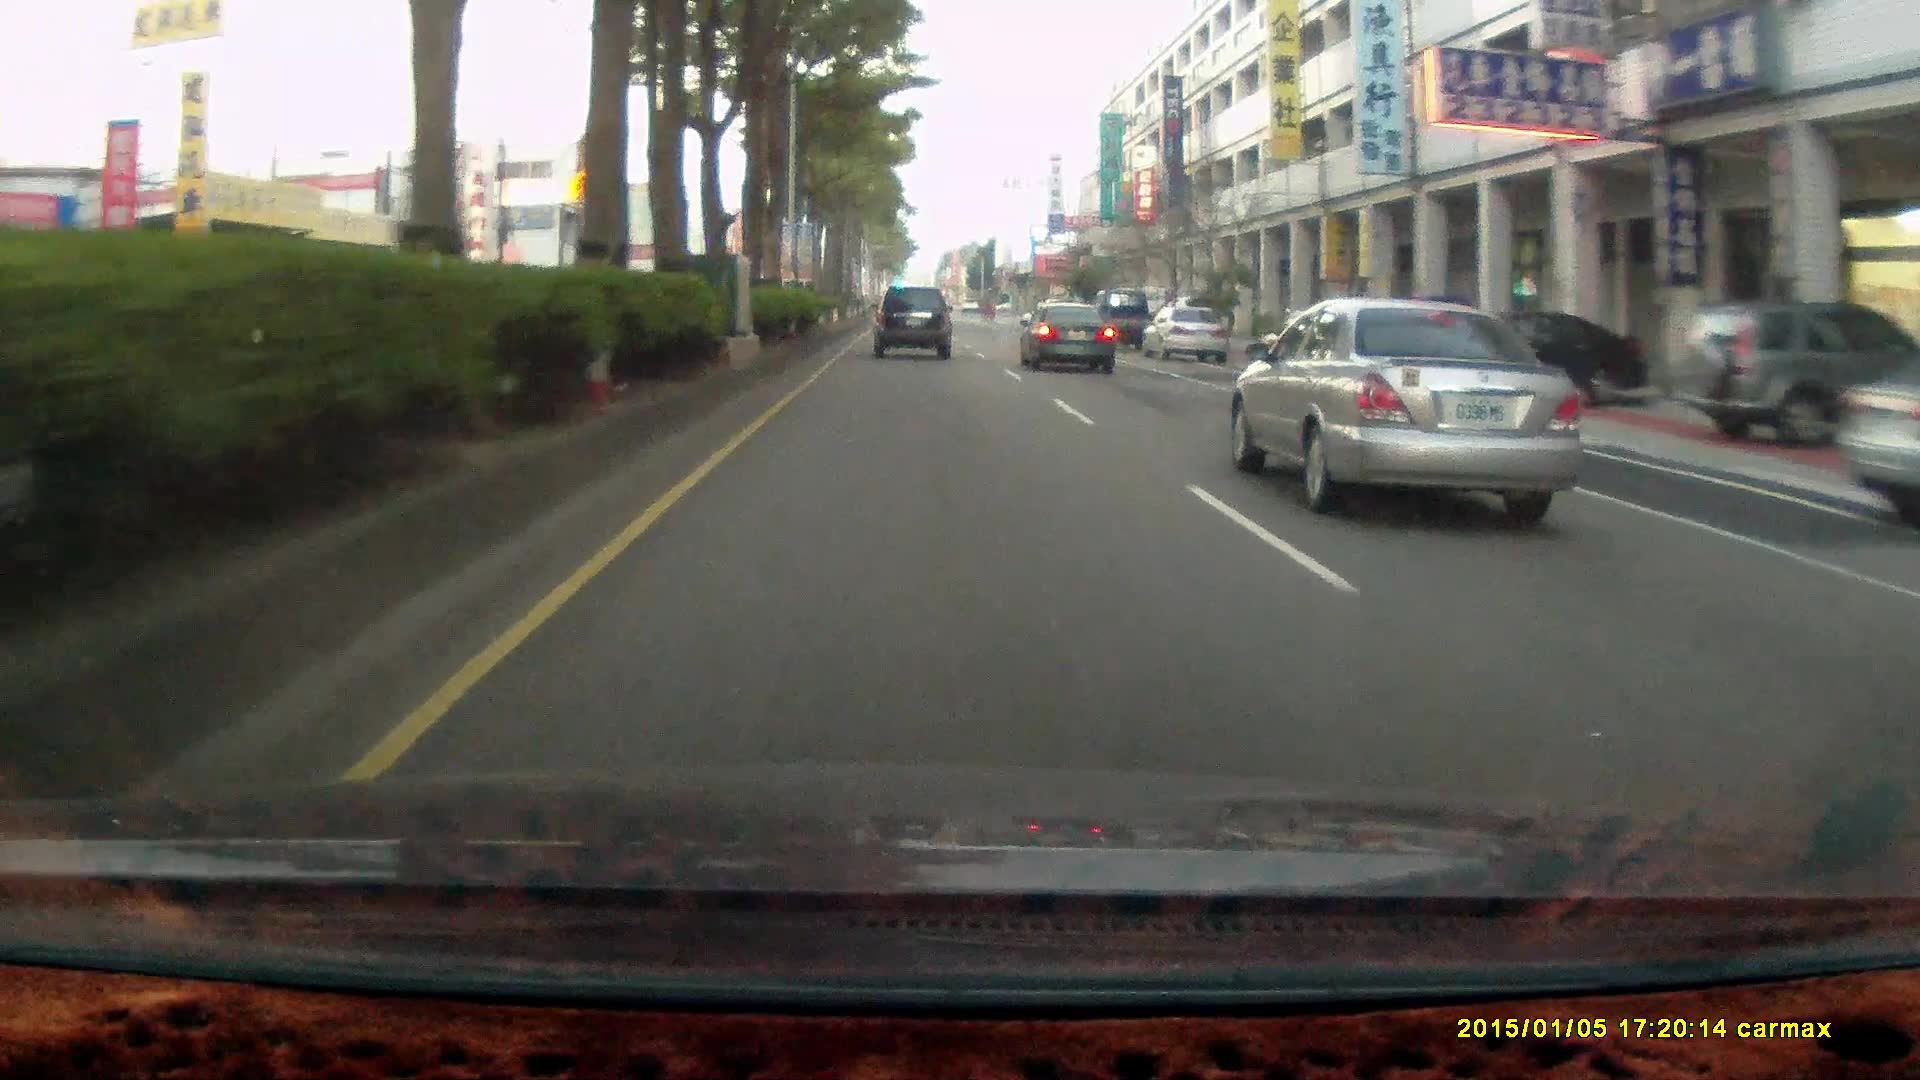vehicle: (1226, 295, 1593, 522), (1677, 299, 1915, 452), (1677, 299, 1915, 450), (1429, 313, 1658, 407), (1432, 313, 1650, 406), (1822, 331, 1920, 531), (1832, 331, 1920, 531), (1019, 301, 1120, 377), (1017, 301, 1114, 373), (872, 285, 956, 363), (870, 284, 953, 355), (1138, 306, 1230, 365), (1147, 311, 1236, 364), (1087, 285, 1149, 347)
